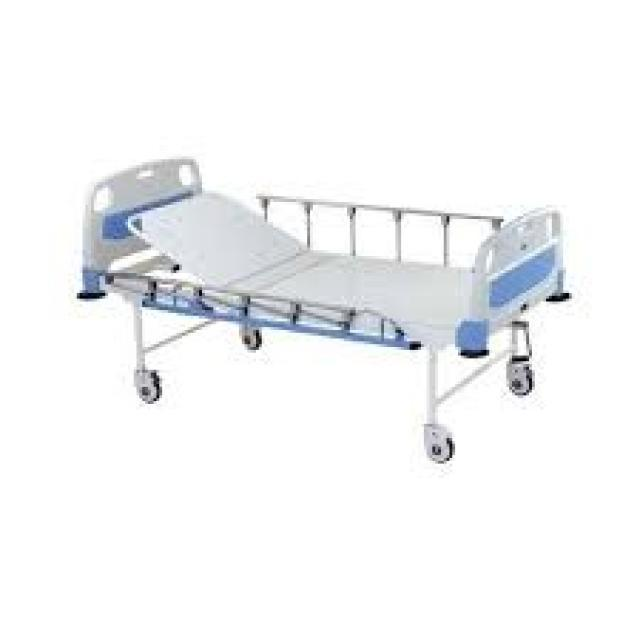patient_bed: (85, 143, 560, 433)
